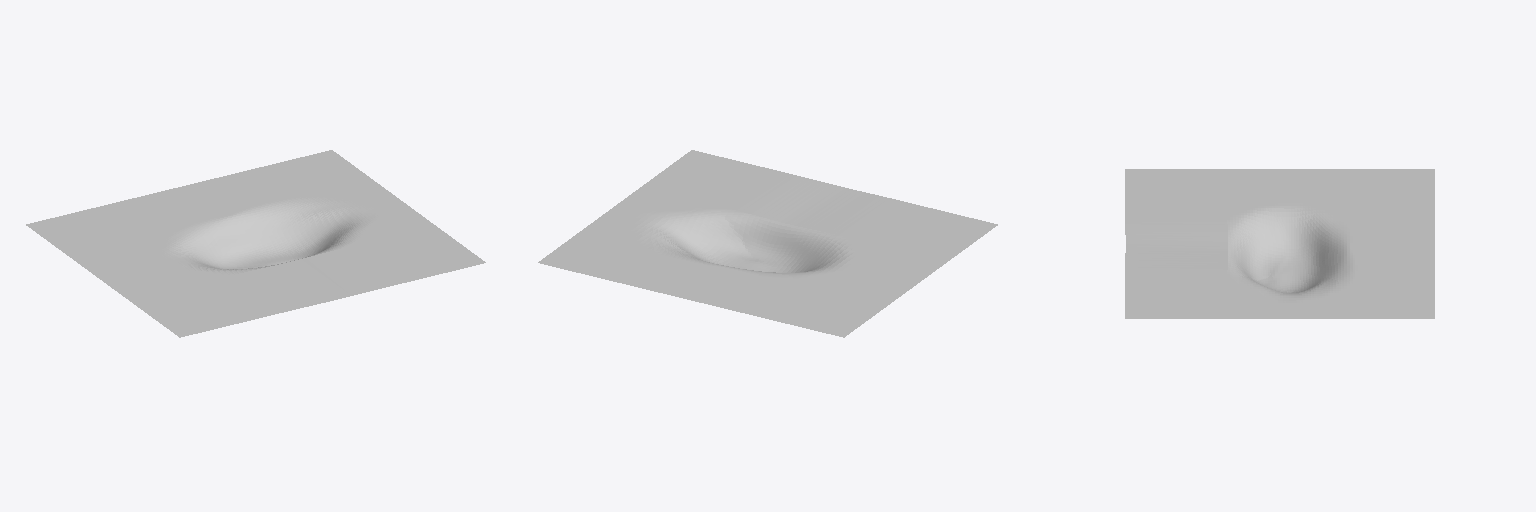
The model's file is lakebody.obj.
3 views of the same model, side by side, from view 1: azimuth 30°, elevation 25°; view 2: azimuth 150°, elevation 25°; view 3: azimuth 270°, elevation 25° (orthographic).
Parts seen in each view (by area): view 1: Plane; view 2: Plane; view 3: Plane.
Boxes of the visible parts, <box> form: Plane: <box>26,150,485,337</box>; Plane: <box>538,150,997,337</box>; Plane: <box>1125,169,1434,318</box>.
Size of the model in its own units: 309 by 23.47 by 269.